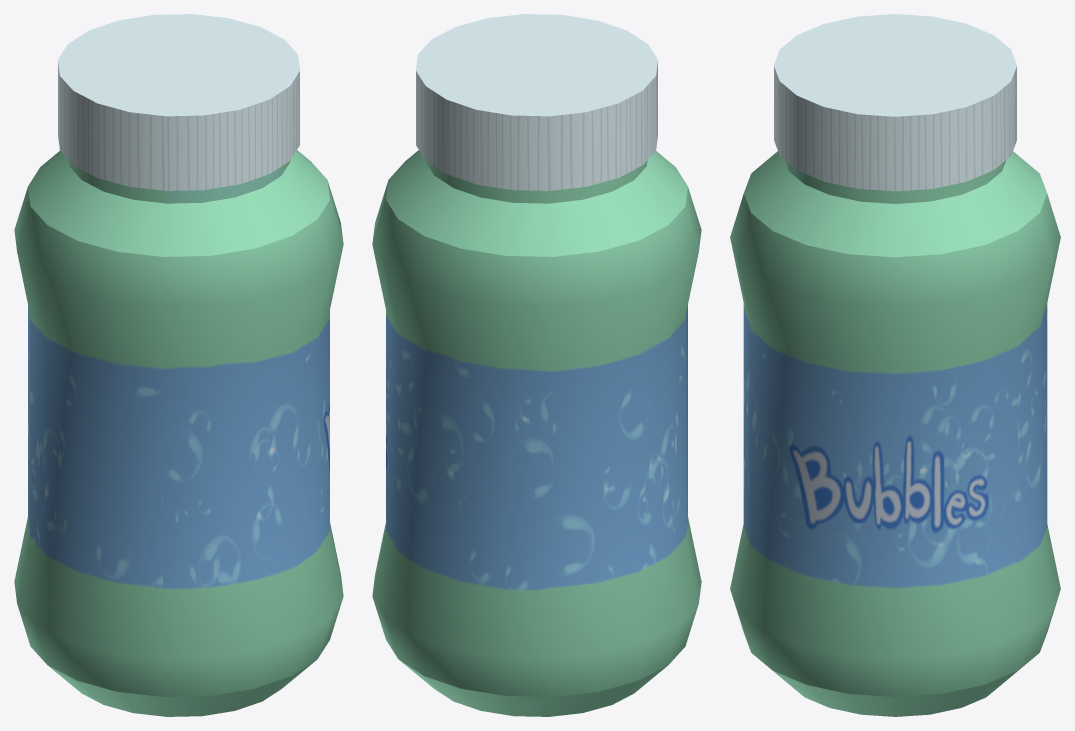
Rendered from bottle.obj.
3 renders of one model, left to right at view 1: azimuth 30°, elevation 25°; view 2: azimuth 150°, elevation 25°; view 3: azimuth 270°, elevation 25°, orthographic.
Visible parts, largest first — view 1: Bubblebottle; view 2: Bubblebottle; view 3: Bubblebottle.
Boxes of the visible parts, <box> form: Bubblebottle: <box>14,14,343,716</box>; Bubblebottle: <box>372,14,701,716</box>; Bubblebottle: <box>730,14,1060,716</box>.
Size of the model in its own units: 2.18 by 4.39 by 2.18.
Materials: 1 (1 with a texture image).
